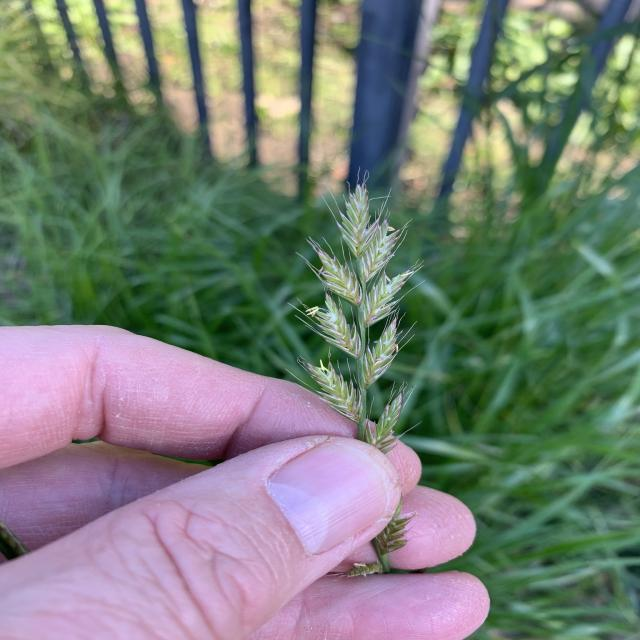Lolium: (284, 167, 429, 578)
